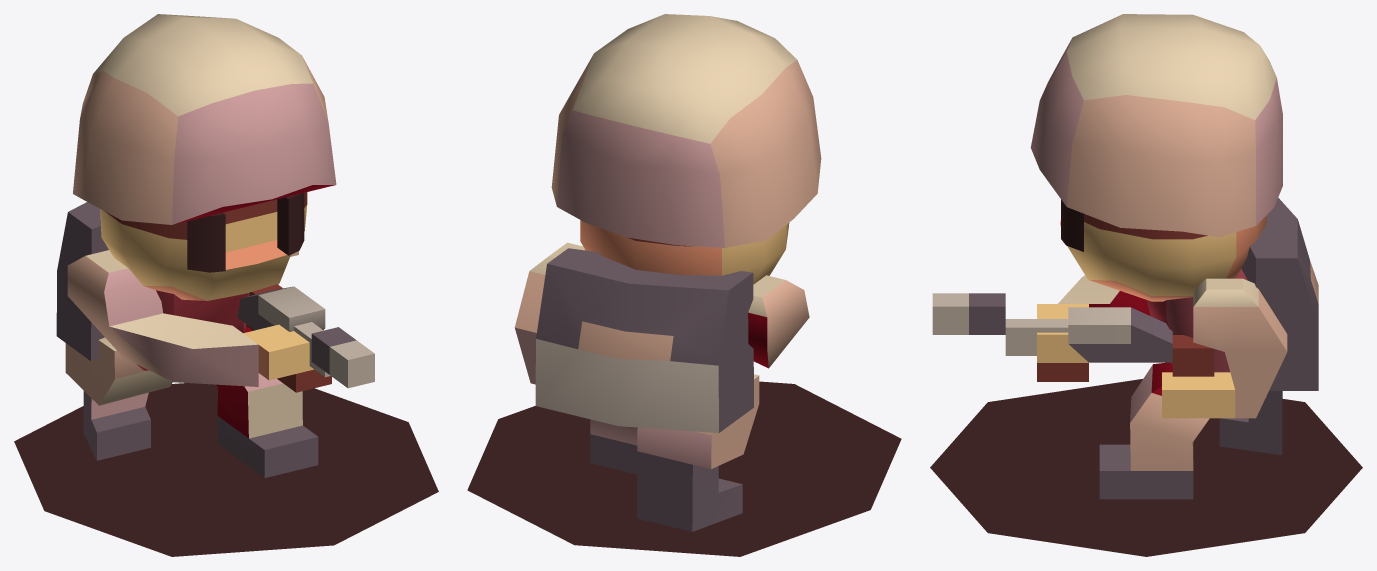
File: InfantryMesh.WhiteNova.glb
3 renders of one model, left to right at view 1: azimuth 30°, elevation 25°; view 2: azimuth 150°, elevation 25°; view 3: azimuth 270°, elevation 25°, orthographic. The views are drawn at different scales.
Visible parts, largest first — view 1: InfantryMesh.WhiteNova; view 2: InfantryMesh.WhiteNova; view 3: InfantryMesh.WhiteNova.
Part boxes in pixels (<box>): InfantryMesh.WhiteNova: <box>14,14,438,556</box>; InfantryMesh.WhiteNova: <box>467,14,901,556</box>; InfantryMesh.WhiteNova: <box>930,14,1362,556</box>.
Size of the model in its own units: 2.03 by 2.3 by 2.07.
1 material, 1 textured.
